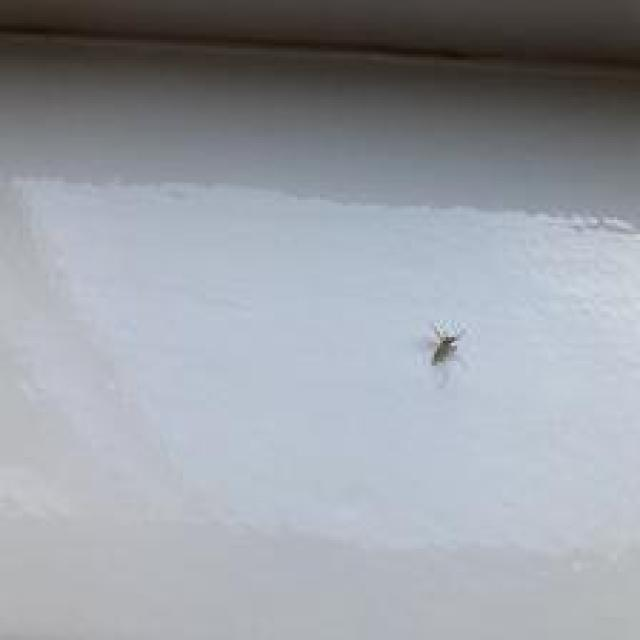Culex: (427, 320, 462, 366)
